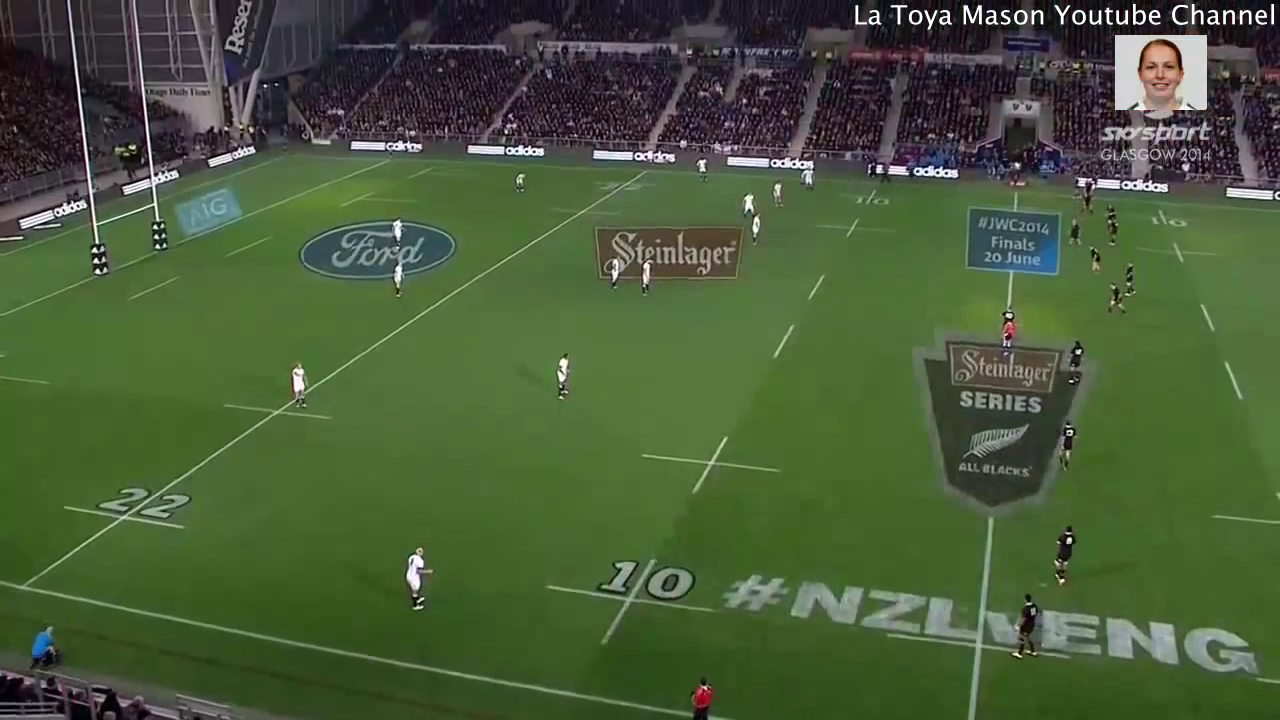10_metre: (536, 550, 721, 649), (631, 427, 789, 503), (1131, 235, 1231, 267), (809, 211, 901, 245), (1116, 204, 1204, 230), (834, 184, 906, 210)
player: (397, 538, 441, 618), (1004, 589, 1046, 668), (1043, 518, 1083, 596), (284, 357, 320, 419), (1048, 415, 1082, 479), (548, 340, 581, 405), (1061, 335, 1087, 390), (1119, 257, 1142, 304), (998, 315, 1020, 359), (735, 187, 761, 223), (386, 256, 407, 300), (1086, 242, 1109, 282), (1105, 279, 1127, 320), (637, 255, 658, 297), (387, 213, 408, 253), (605, 253, 627, 291), (747, 208, 766, 249), (693, 154, 715, 188), (797, 162, 821, 193), (1063, 213, 1083, 250), (767, 177, 787, 211), (1104, 217, 1122, 254), (997, 303, 1020, 329), (1078, 185, 1096, 218), (511, 167, 529, 196), (1101, 203, 1121, 222)
post: (58, 1, 174, 282)
